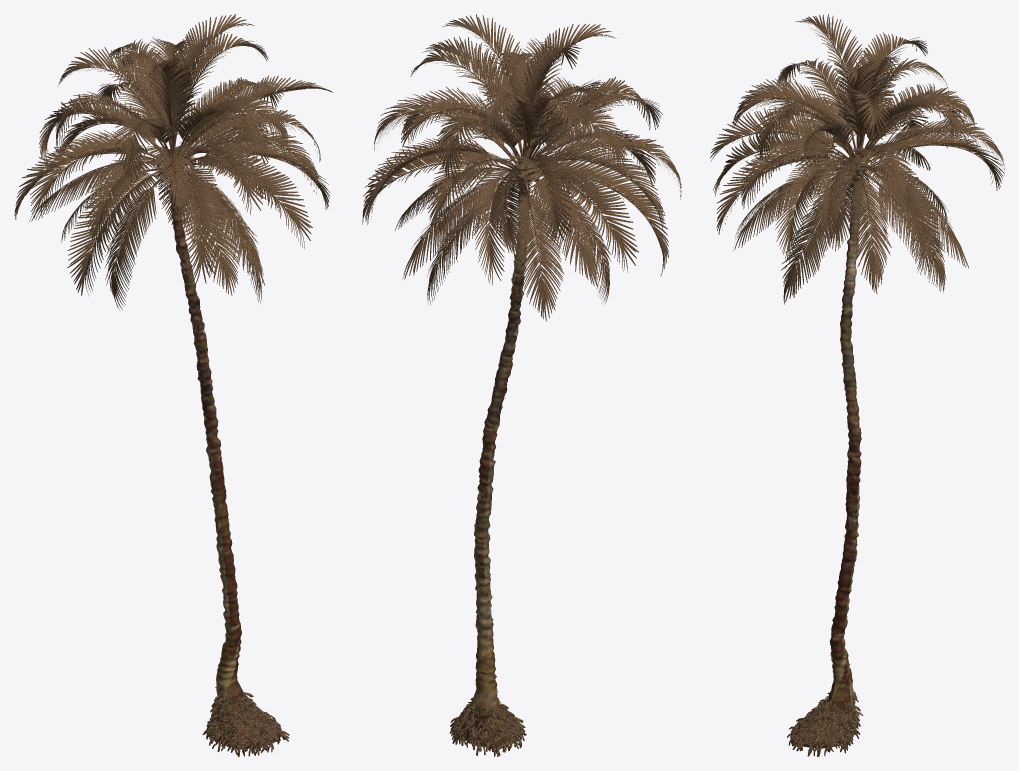
The picture shows the model from 3 angles, left to right: view 1: azimuth 30°, elevation 25°; view 2: azimuth 150°, elevation 25°; view 3: azimuth 270°, elevation 25°; orthographic projection. The views are drawn at different scales.
Parts seen in each view (by area): view 1: Leaves, Trunk, Roots; view 2: Leaves, Trunk, Roots; view 3: Leaves, Trunk, Roots.
Part boxes in pixels (x1,y1,x2,y2): Leaves: (14,14,332,309); Trunk: (164,153,280,749); Roots: (202,686,289,756); Leaves: (362,14,681,321); Trunk: (457,159,534,748); Roots: (449,697,526,756); Leaves: (710,14,1004,304); Trunk: (793,154,868,748); Roots: (787,692,863,756).
Size of the model in its own units: 143 by 361 by 142.
